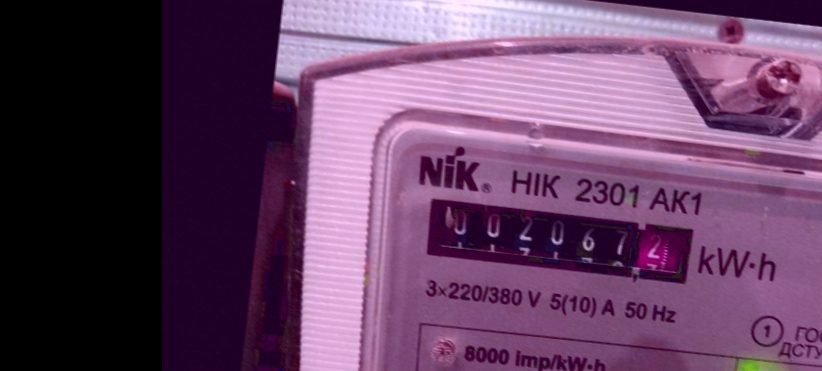0: (450, 206, 471, 237), (547, 215, 568, 245), (484, 208, 504, 239)
2: (645, 229, 666, 260), (517, 212, 537, 243)
6: (579, 222, 600, 253)
7: (612, 226, 631, 257)
screen: (411, 183, 710, 298)
